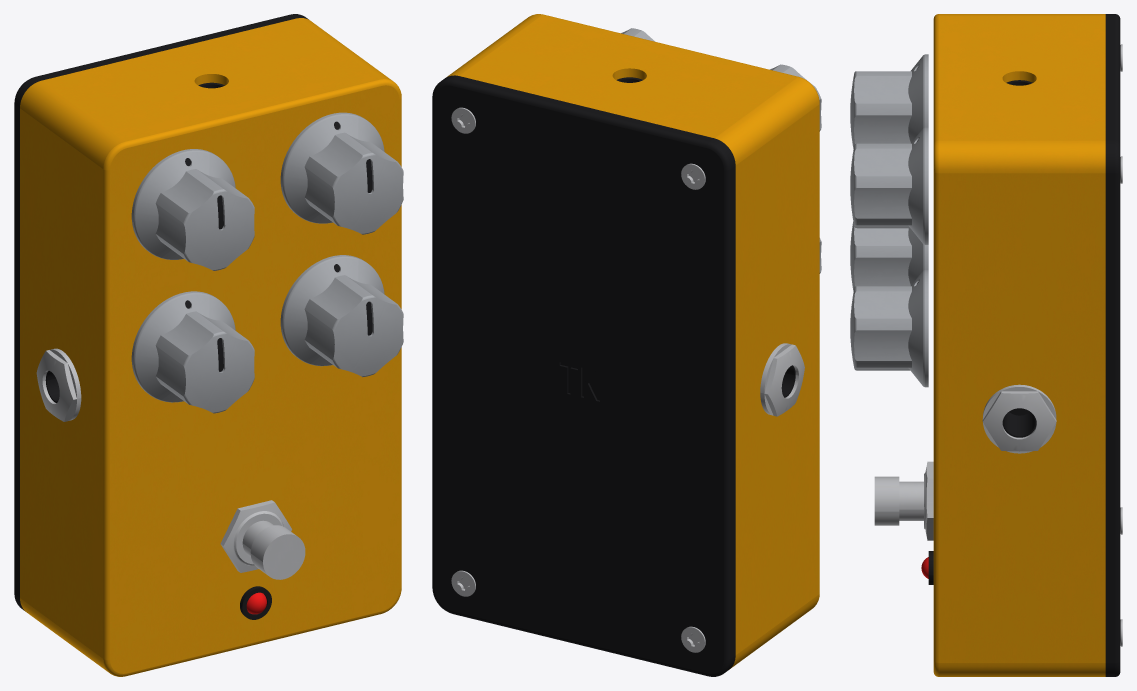
File: Pedal4.glb
3 renders of one model, left to right at view 1: azimuth 30°, elevation 25°; view 2: azimuth 150°, elevation 25°; view 3: azimuth 270°, elevation 25°, orthographic.
Visible parts, largest first — view 1: Shape_IndexedFaceSet.087, Shape_IndexedFaceSet.056, Shape_IndexedFaceSet.064, Shape_IndexedFaceSet.092, Shape_IndexedFaceSet.096, Shape_IndexedFaceSet.292, Shape_IndexedFaceSet.409, Shape_IndexedFaceSet.370, Shape_IndexedFaceSet.331, Shape_IndexedFaceSet.044, Shape_IndexedFaceSet.302, Shape_IndexedFaceSet.380 (+29 smaller); view 2: Shape_IndexedFaceSet, Shape_IndexedFaceSet.056, Shape_IndexedFaceSet.064, Shape_IndexedFaceSet.092, Shape_IndexedFaceSet.051, Shape_IndexedFaceSet.044, Shape_IndexedFaceSet.053, Shape_IndexedFaceSet.055, Shape_IndexedFaceSet.046, Shape_IndexedFaceSet.090, Shape_IndexedFaceSet.049, Shape_IndexedFaceSet.217 (+1 smaller); view 3: Shape_IndexedFaceSet.057, Shape_IndexedFaceSet.064, Shape_IndexedFaceSet.091, Shape_IndexedFaceSet.040, Shape_IndexedFaceSet.055, Shape_IndexedFaceSet.100, Shape_IndexedFaceSet.088, Shape_IndexedFaceSet.314, Shape_IndexedFaceSet.392, Shape_IndexedFaceSet.431, Shape_IndexedFaceSet.313, Shape_IndexedFaceSet.353 (+21 smaller).
Boxes of the visible parts, bbox=[...] form: Shape_IndexedFaceSet.087: bbox=[110, 85, 399, 673]; Shape_IndexedFaceSet.056: bbox=[20, 108, 103, 658]; Shape_IndexedFaceSet.064: bbox=[41, 18, 379, 141]; Shape_IndexedFaceSet.092: bbox=[20, 81, 124, 168]; Shape_IndexedFaceSet.096: bbox=[103, 169, 109, 659]; Shape_IndexedFaceSet.292: bbox=[284, 115, 358, 221]; Shape_IndexedFaceSet.409: bbox=[135, 294, 209, 399]; Shape_IndexedFaceSet.370: bbox=[284, 258, 358, 363]; Shape_IndexedFaceSet.331: bbox=[135, 152, 209, 257]; Shape_IndexedFaceSet.044: bbox=[15, 105, 19, 597]; Shape_IndexedFaceSet.302: bbox=[334, 155, 385, 229]; Shape_IndexedFaceSet.380: bbox=[334, 297, 384, 372]; Shape_IndexedFaceSet: bbox=[434, 85, 723, 673]; Shape_IndexedFaceSet.056: bbox=[735, 105, 819, 654]; Shape_IndexedFaceSet.064: bbox=[459, 15, 797, 138]; Shape_IndexedFaceSet.092: bbox=[715, 77, 818, 165]; Shape_IndexedFaceSet.051: bbox=[724, 169, 730, 659]; Shape_IndexedFaceSet.044: bbox=[730, 166, 735, 658]; Shape_IndexedFaceSet.053: bbox=[452, 79, 708, 147]; Shape_IndexedFaceSet.055: bbox=[432, 98, 434, 588]; Shape_IndexedFaceSet.046: bbox=[454, 76, 713, 141]; Shape_IndexedFaceSet.090: bbox=[729, 594, 818, 669]; Shape_IndexedFaceSet.049: bbox=[452, 611, 707, 676]; Shape_IndexedFaceSet.217: bbox=[768, 352, 790, 416]; Shape_IndexedFaceSet.057: bbox=[938, 173, 1105, 662]; Shape_IndexedFaceSet.064: bbox=[938, 16, 1105, 140]; Shape_IndexedFaceSet.091: bbox=[938, 140, 1105, 173]; Shape_IndexedFaceSet.040: bbox=[1105, 173, 1115, 662]; Shape_IndexedFaceSet.055: bbox=[1115, 172, 1120, 662]; Shape_IndexedFaceSet.100: bbox=[933, 172, 938, 662]; Shape_IndexedFaceSet.088: bbox=[938, 663, 1105, 676]; Shape_IndexedFaceSet.314: bbox=[854, 188, 911, 218]; Shape_IndexedFaceSet.392: bbox=[854, 330, 911, 360]; Shape_IndexedFaceSet.431: bbox=[854, 257, 911, 286]; Shape_IndexedFaceSet.313: bbox=[854, 148, 911, 176]; Shape_IndexedFaceSet.353: bbox=[854, 115, 911, 143].
Size of the model in its own units: 0.7551 by 1.2 by 0.555.
Materials: 5 (4 with a texture image).
